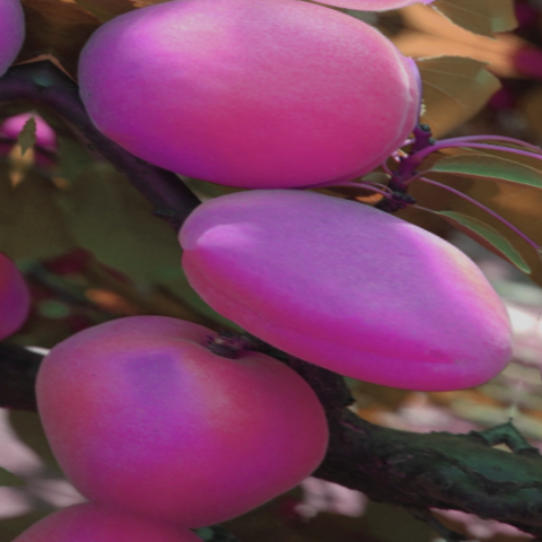mango: (147, 139, 542, 430), (0, 259, 379, 542), (36, 0, 461, 241)
